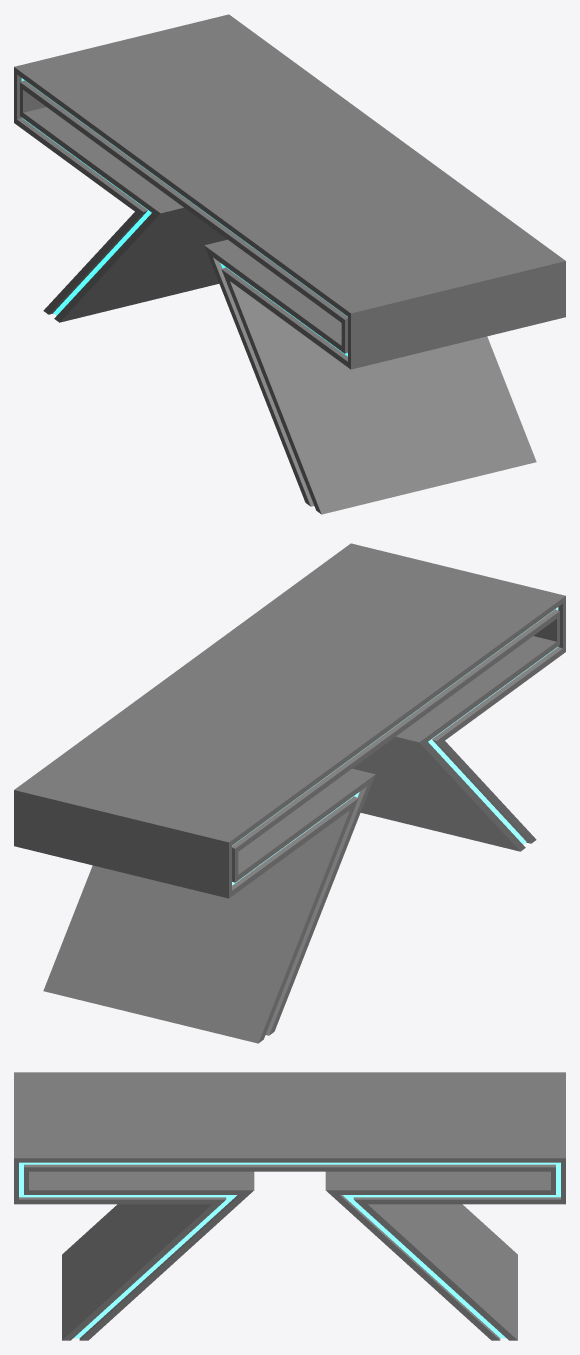
Rendered from table.fbx.
3 views of the same model, one above another, from view 1: azimuth 30°, elevation 25°; view 2: azimuth 150°, elevation 25°; view 3: azimuth 270°, elevation 25° (orthographic). The views are drawn at different scales.
Parts seen in each view (by area): view 1: Cube; view 2: Cube; view 3: Cube.
Boxes of the visible parts, x1,y1,x2,y2 form: Cube: (14, 14, 565, 514); Cube: (14, 543, 565, 1043); Cube: (14, 1072, 565, 1340).
Bounding box in the file's own units: 200 × 198 × 543.
